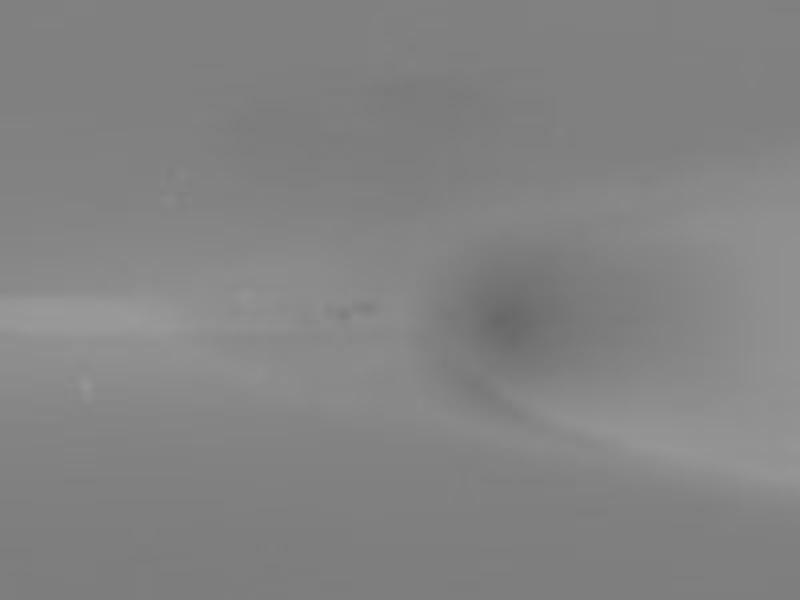defect: (454, 252, 616, 378), (351, 297, 374, 321), (328, 303, 351, 325)
